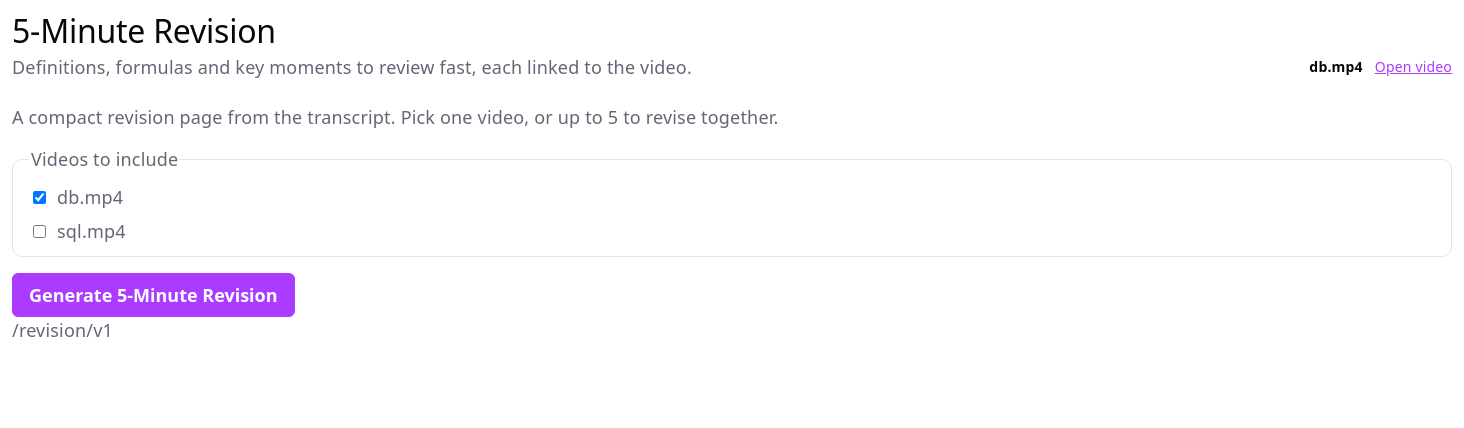
Test: Revision: 5-Minute Revision › shows API errors
This screenshot has width=1464, height=428.
Click the button "Generate 5-Minute Revision": (153,295) [12, 273, 295, 317]
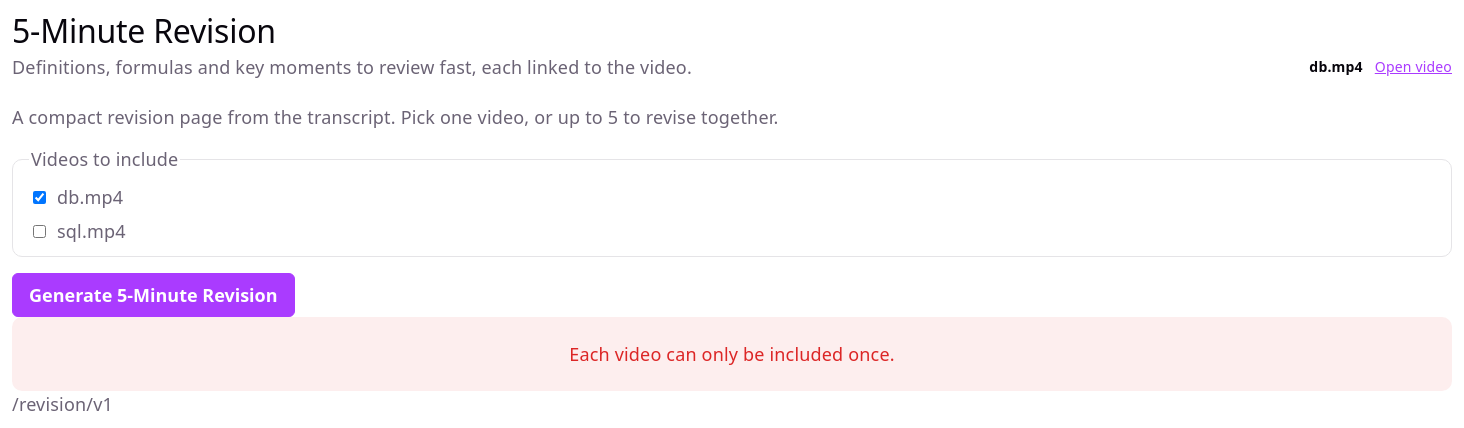
Expected: the message shows "only be included once", [569, 342, 895, 366]
